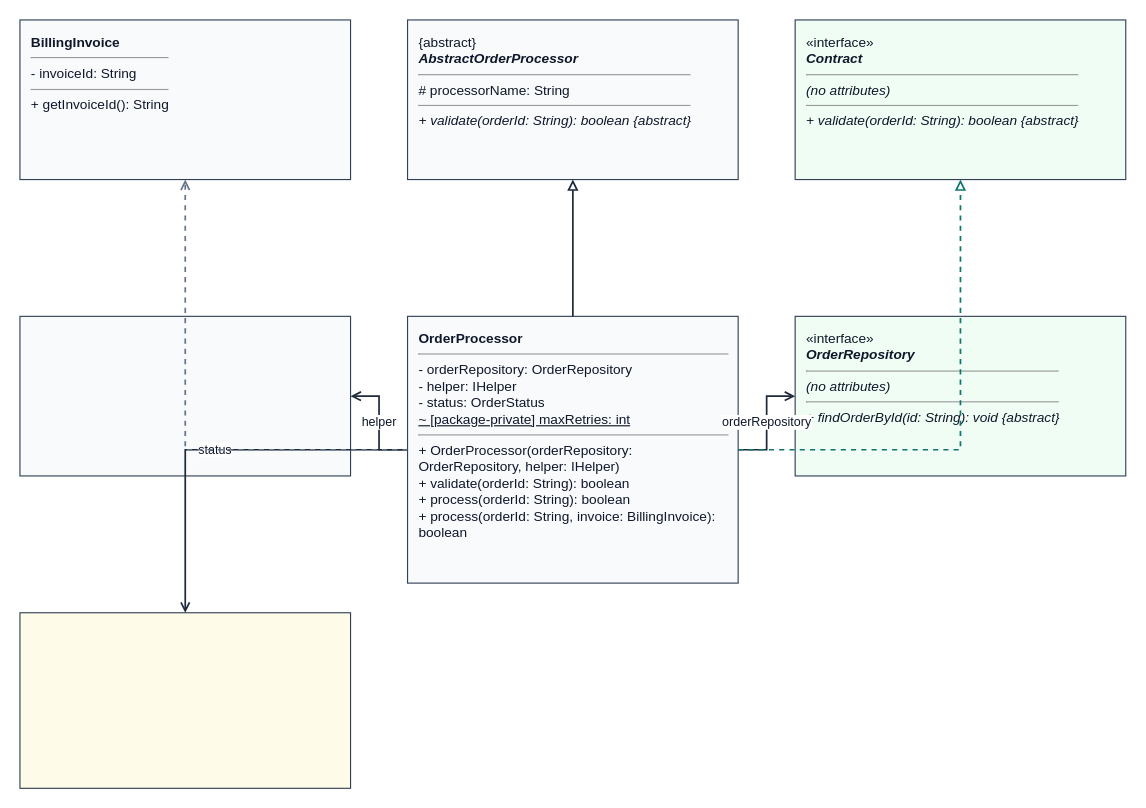
Image size: 1146x808. Some labels were removed from this diagram. Each missing label, with the box of its shape:
IHelper (no attributes) ~ [package-private] formatId(raw: String): String: (19, 315, 351, 476)
«enumeration» OrderStatus CREATED VALIDATED PAID CANCELLED (no operations): (19, 612, 351, 788)
